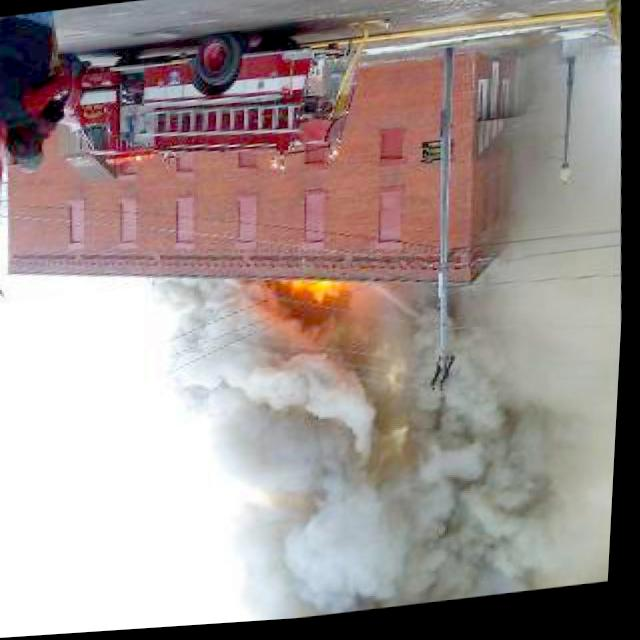Fire: (287, 276, 365, 317)
Smoke: (147, 234, 629, 631)
